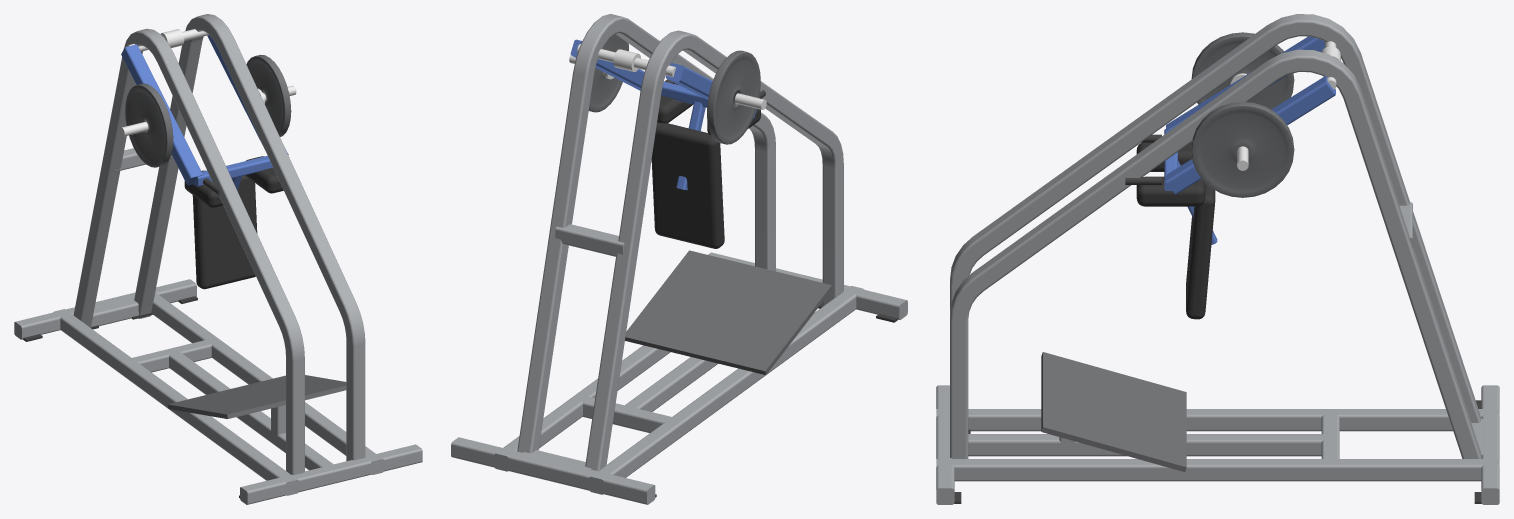
The picture shows the model from 3 angles, left to right: view 1: azimuth 30°, elevation 25°; view 2: azimuth 150°, elevation 25°; view 3: azimuth 270°, elevation 25°; orthographic projection. The views are drawn at different scales.
Parts seen in each view (by area): view 1: base, side_frame_left_tube, side_frame_right_tube, lever, backrest_pad, foot_plate, frame, lever_bar, shoulder_pad (×2); view 2: base, foot_plate, side_frame_left_tube, side_frame_right_tube, backrest_pad, lever, frame, lever_bar (×2), rear_crossbar, shoulder_pad; view 3: base, side_frame_right_tube, side_frame_left_tube, foot_plate, lever, lever_bar (×2), backrest_pad, shoulder_pad, frame.
Part boxes in pixels (x1=…): base: x1=14, y1=279, x2=422, y2=504; side_frame_left_tube: x1=73, y1=28, x2=304, y2=474; side_frame_right_tube: x1=134, y1=14, x2=365, y2=461; lever: x1=125, y1=54, x2=291, y2=210; backrest_pad: x1=192, y1=175, x2=257, y2=289; foot_plate: x1=167, y1=375, x2=346, y2=418; frame: x1=91, y1=298, x2=216, y2=372; lever_bar: x1=121, y1=44, x2=202, y2=185; shoulder_pad (×2): x1=184, y1=156, x2=283, y2=207; base: x1=451, y1=252, x2=907, y2=504; foot_plate: x1=625, y1=250, x2=832, y2=374; side_frame_left_tube: x1=585, y1=30, x2=843, y2=470; side_frame_right_tube: x1=517, y1=14, x2=775, y2=453; backrest_pad: x1=651, y1=122, x2=724, y2=248; lever: x1=588, y1=34, x2=760, y2=190; frame: x1=523, y1=395, x2=677, y2=469; lever_bar (×2): x1=570, y1=39, x2=756, y2=118; rear_crossbar: x1=555, y1=224, x2=624, y2=256; shoulder_pad: x1=657, y1=83, x2=692, y2=123; base: x1=936, y1=385, x2=1499, y2=504; side_frame_right_tube: x1=950, y1=49, x2=1481, y2=458; side_frame_left_tube: x1=950, y1=14, x2=1481, y2=422; foot_plate: x1=1041, y1=352, x2=1186, y2=471; lever: x1=1164, y1=32, x2=1294, y2=244; lever_bar (×2): x1=1166, y1=36, x2=1335, y2=194; backrest_pad: x1=1186, y1=183, x2=1215, y2=319; shoulder_pad: x1=1136, y1=176, x2=1205, y2=206; frame: x1=1321, y1=414, x2=1483, y2=461.
Bounding box in the file's own units: 1.07 × 2.04 × 2.47.
